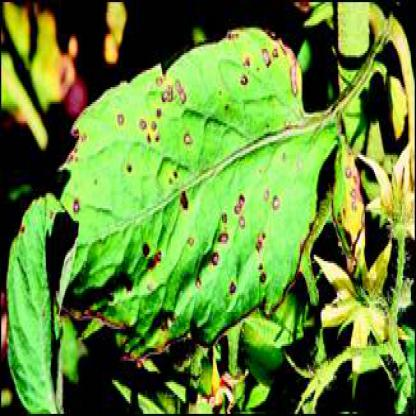tomato leaf bacterial spot: (55, 30, 334, 340)
